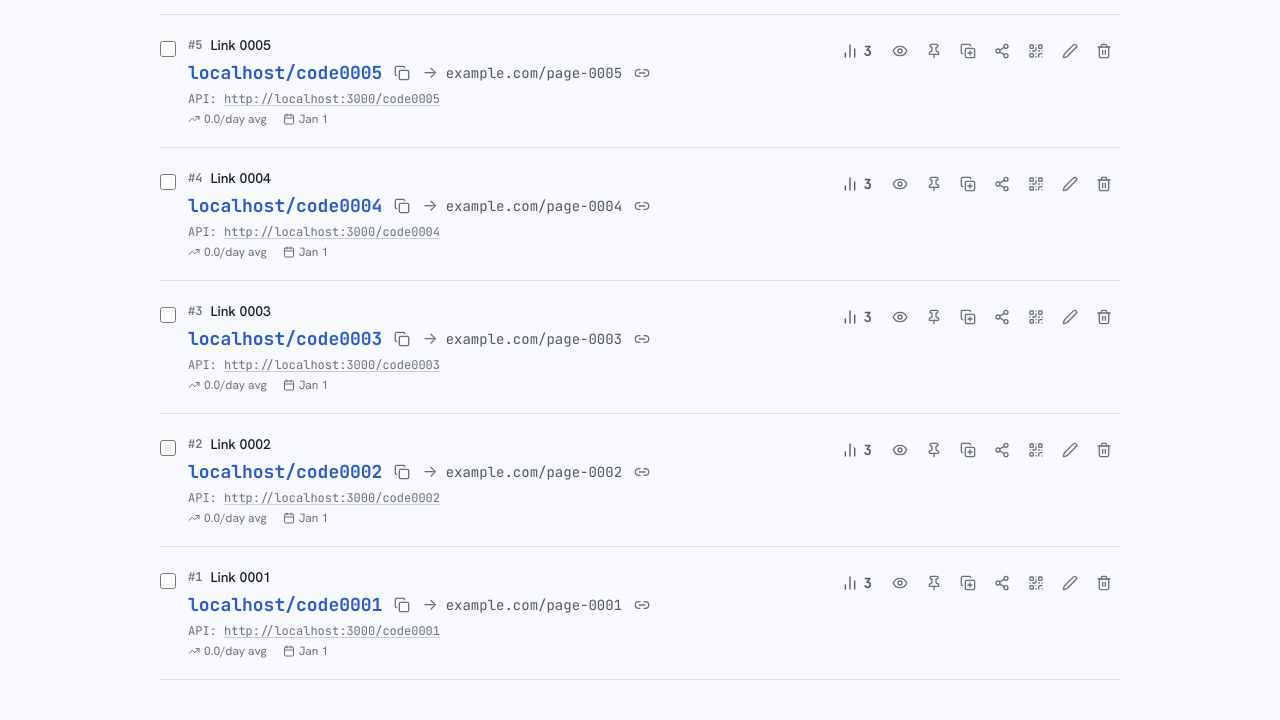
Scenario: Dashboard paging › keeps a pin local when every link is already loaded
(page scrolled)
Expected: the text "Link 0001" is shown, [210,567,271,587]
Click the button named "Pin link code0001".
click(934, 583)  # box [918,567,950,599]
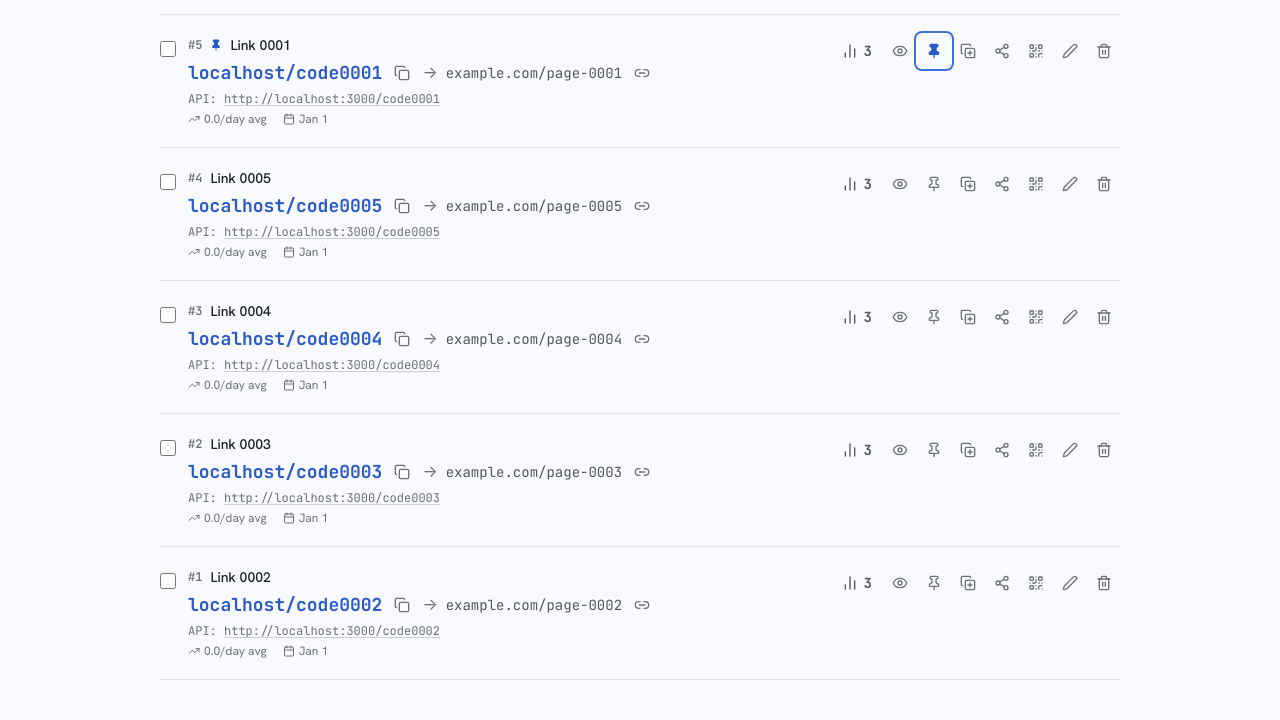
Expected: the button named "Unpin link code0001" is shown, [918,35,950,67]
